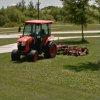Tractor: (8, 11, 71, 72)
